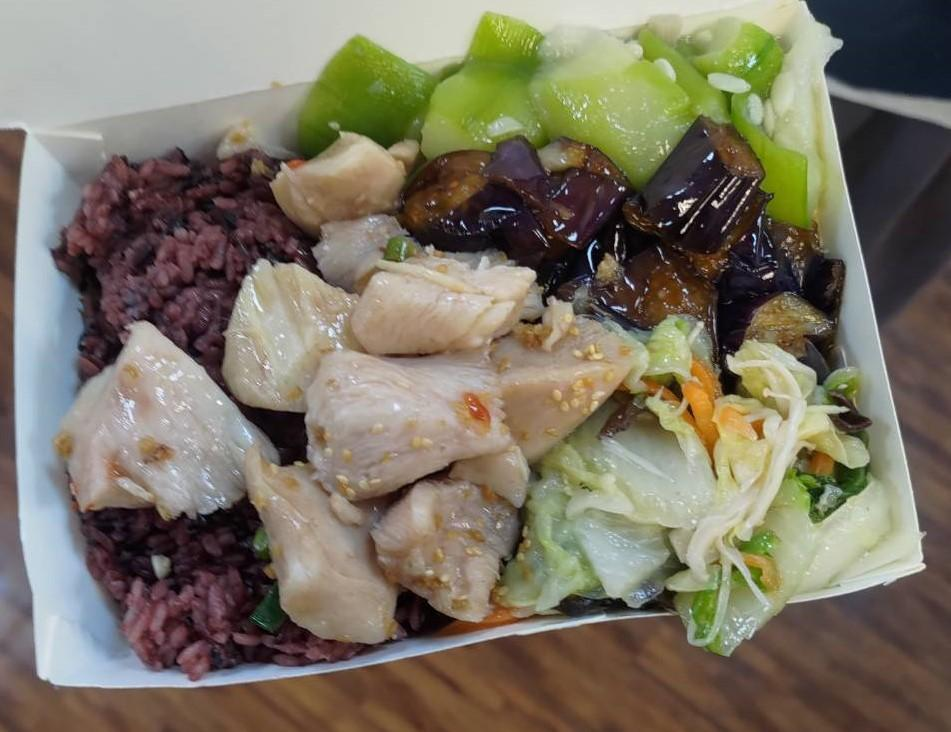big grilled chicken leg: (5, 16, 933, 683)
braised fish: (60, 159, 334, 657)
braised fish fillet: (282, 25, 836, 214), (509, 351, 875, 634), (416, 125, 848, 359)
braised pork: (60, 131, 620, 636)
